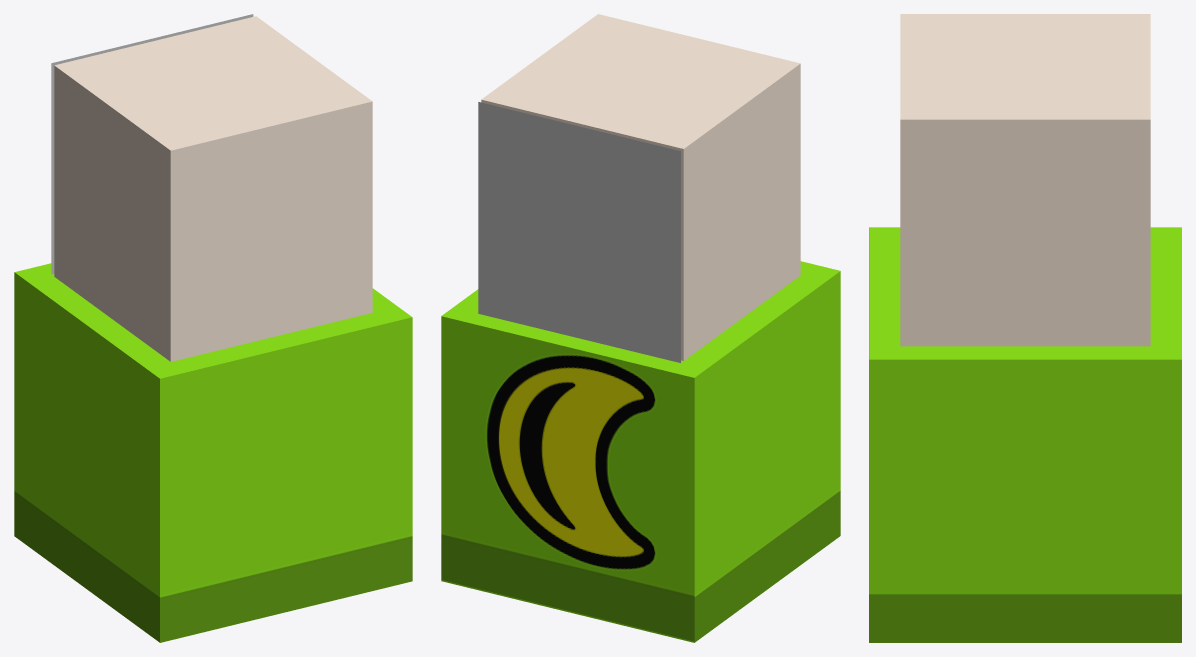
File: Person.fbx
The picture shows the model from 3 angles, left to right: view 1: azimuth 30°, elevation 25°; view 2: azimuth 150°, elevation 25°; view 3: azimuth 270°, elevation 25°; orthographic projection. The views are drawn at different scales.
Parts seen in each view (by area): view 1: Body, Head, Face; view 2: Body, Head, Face; view 3: Body, Head.
Boxes of the visible parts, x1=… form: Body: x1=14, y1=263, x2=412, y2=642; Head: x1=54, y1=16, x2=372, y2=361; Face: x1=51, y1=14, x2=253, y2=274; Body: x1=441, y1=261, x2=840, y2=642; Head: x1=481, y1=14, x2=800, y2=360; Face: x1=478, y1=102, x2=680, y2=362; Body: x1=869, y1=227, x2=1181, y2=642; Head: x1=900, y1=14, x2=1150, y2=346.
Size of the model in its own units: 100 by 180 by 100.
